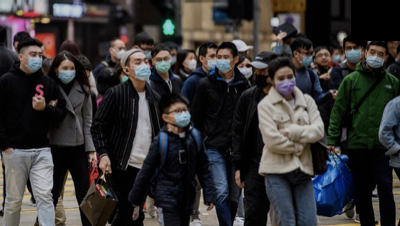with_mask: (275, 71, 297, 96), (129, 56, 152, 79), (170, 104, 192, 128), (24, 50, 44, 71), (366, 47, 386, 68), (59, 63, 77, 83), (216, 52, 233, 73), (252, 68, 269, 89), (344, 43, 362, 62), (154, 54, 171, 74), (238, 61, 253, 79), (300, 49, 314, 66), (140, 45, 155, 60), (113, 45, 128, 59), (206, 50, 217, 69), (186, 55, 198, 69)
without_mask: (315, 52, 332, 65)
